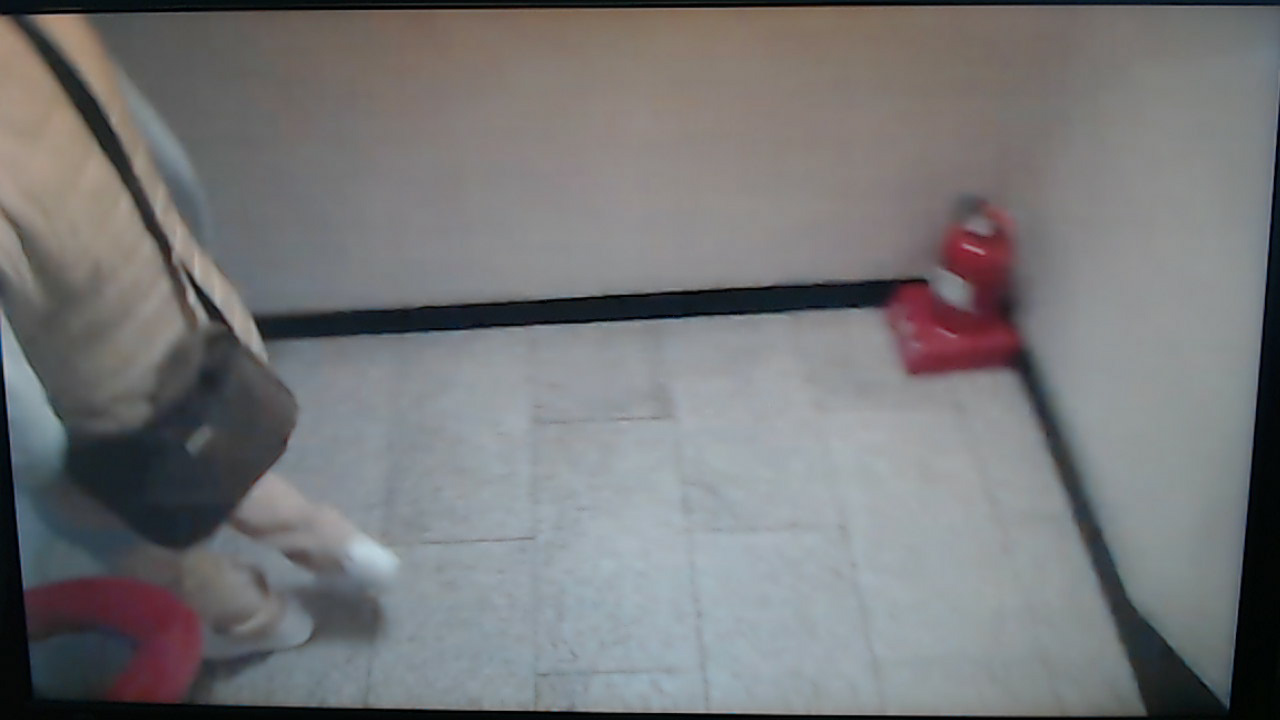Yakurut: (7, 21, 508, 669)
